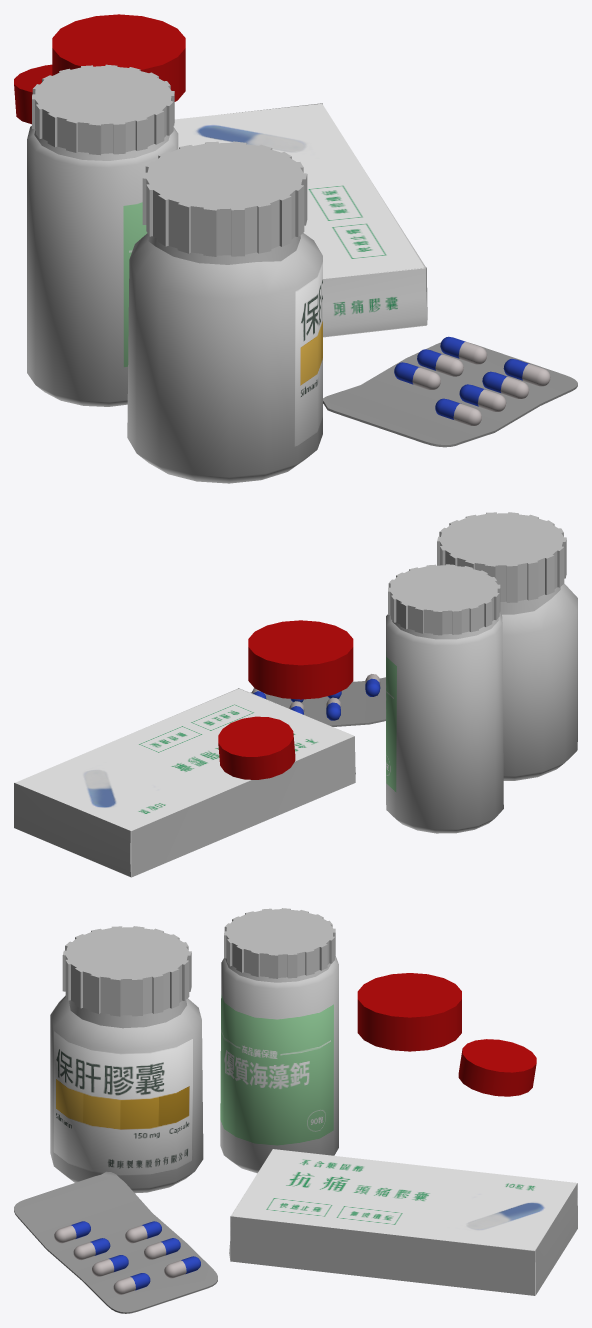
Rendered from medicine_jars.fbx.
3 views of the same model, one above another, from view 1: azimuth 30°, elevation 25°; view 2: azimuth 150°, elevation 25°; view 3: azimuth 270°, elevation 25° (orthographic). The views are drawn at different scales.
Visible parts, largest first — view 1: Object003; view 2: Object003; view 3: Object003.
Part boxes in pixels (x1=…): Object003: x1=14, y1=14, x2=577, y2=483; Object003: x1=14, y1=512, x2=577, y2=877; Object003: x1=14, y1=908, x2=577, y2=1313.
Bounding box in the file's own units: 11.64 × 7.57 × 16.17.
